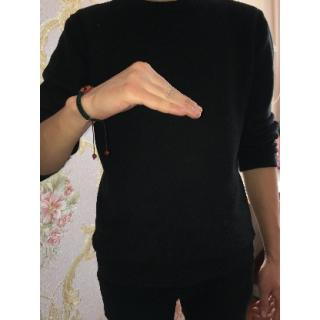HAA: (83, 57, 208, 124)
